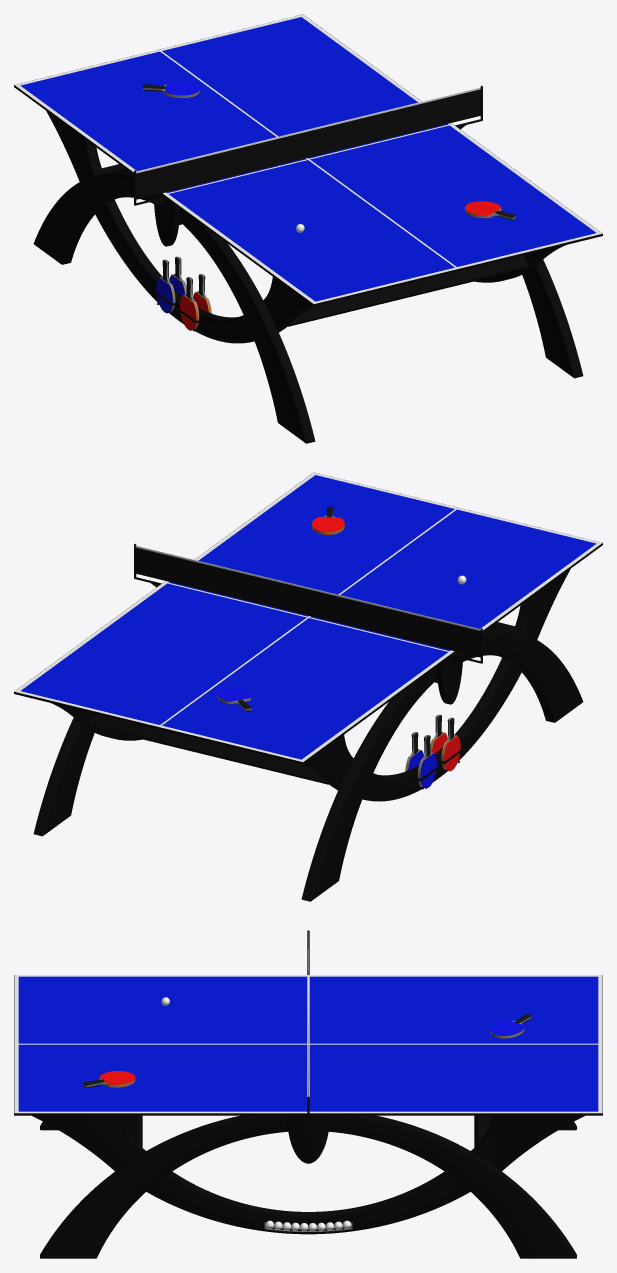
The model's file is PingPong.FBX.
3 renders of one model, top to bottom at view 1: azimuth 30°, elevation 25°; view 2: azimuth 150°, elevation 25°; view 3: azimuth 270°, elevation 25°, orthographic.
Parts seen in each view (by area): view 1: Layer:Blu, Layer:Metallo Nero, Layer:Rete, Layer:Bianco, Layer:Nero, Layer:Rete Bordo, Layer:Racchetta_GommaBlu, Layer:Racchetta_GommaRossa; view 2: Layer:Blu, Layer:Metallo Nero, Layer:Rete, Layer:Bianco, Layer:Nero, Layer:Rete Bordo, Layer:Racchetta_GommaRossa, Layer:Racchetta_GommaBlu; view 3: Layer:Blu, Layer:Metallo Nero, Layer:Bianco, Layer:Nero, Layer:Palle, Layer:Racchetta_GommaBlu001.
Boxes of the visible parts, x1=… form: Layer:Blu: x1=20, y1=17, x2=595, y2=301; Layer:Metallo Nero: x1=33, y1=85, x2=583, y2=443; Layer:Rete: x1=136, y1=89, x2=480, y2=199; Layer:Bianco: x1=15, y1=14, x2=602, y2=303; Layer:Nero: x1=14, y1=14, x2=602, y2=331; Layer:Rete Bordo: x1=136, y1=87, x2=480, y2=173; Layer:Racchetta_GommaBlu: x1=156, y1=274, x2=186, y2=313; Layer:Racchetta_GommaRossa: x1=180, y1=292, x2=211, y2=330; Layer:Blu: x1=21, y1=475, x2=596, y2=759; Layer:Metallo Nero: x1=33, y1=543, x2=583, y2=901; Layer:Rete: x1=136, y1=548, x2=480, y2=657; Layer:Bianco: x1=14, y1=472, x2=601, y2=761; Layer:Nero: x1=14, y1=472, x2=602, y2=789; Layer:Rete Bordo: x1=135, y1=546, x2=480, y2=630; Layer:Racchetta_GommaRossa: x1=430, y1=732, x2=460, y2=771; Layer:Racchetta_GommaBlu: x1=405, y1=750, x2=436, y2=788; Layer:Blu: x1=18, y1=976, x2=598, y2=1111; Layer:Metallo Nero: x1=32, y1=930, x2=584, y2=1258; Layer:Bianco: x1=14, y1=975, x2=602, y2=1113; Layer:Nero: x1=14, y1=975, x2=602, y2=1115; Layer:Palle: x1=161, y1=997, x2=351, y2=1231; Layer:Racchetta_GommaBlu001: x1=490, y1=1020, x2=524, y2=1038.
Bounding box in the file's own units: 184 × 91.75 × 274.
